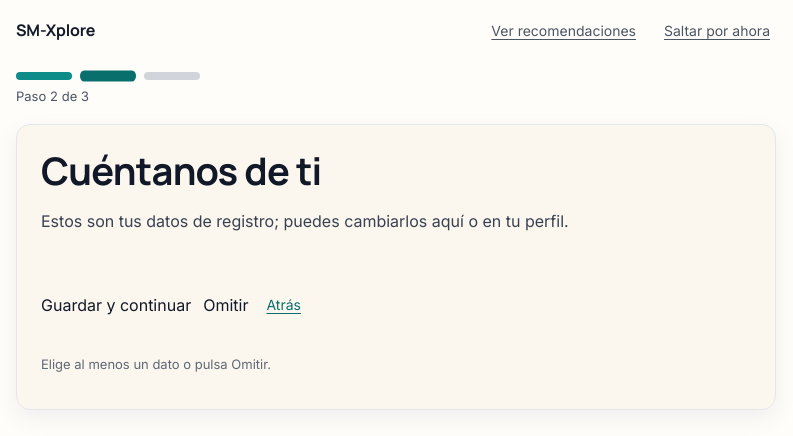
OnboardingPage › volver a pulsar una preferencia guardada la quita con DELETE
This screenshot has width=793, height=436.
Check: the heading "Cuéntanos de ti" is shown, box [41, 144, 322, 196]
Click the button "Atrás": (284, 305) [260, 283, 307, 327]
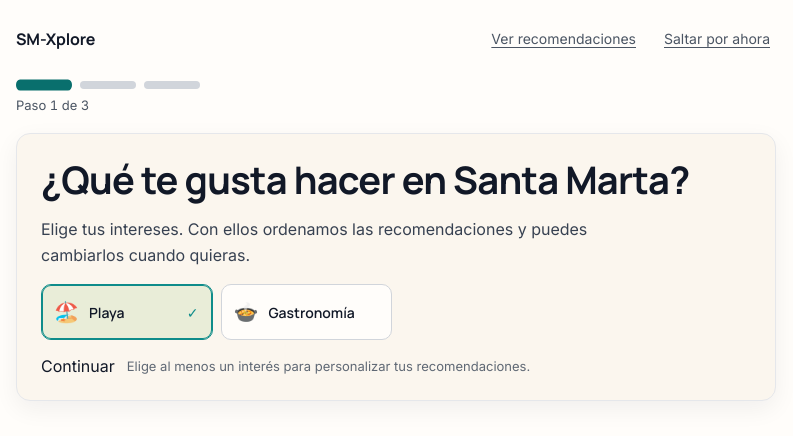
Click the button "🏖️ Playa ✓": (127, 312) [41, 284, 212, 340]
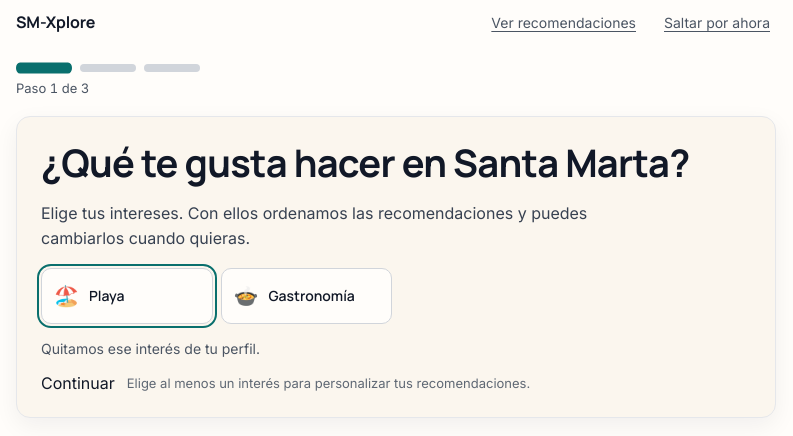
Check: the button "🏖️ Playa" is not pressed, box [41, 268, 212, 324]
